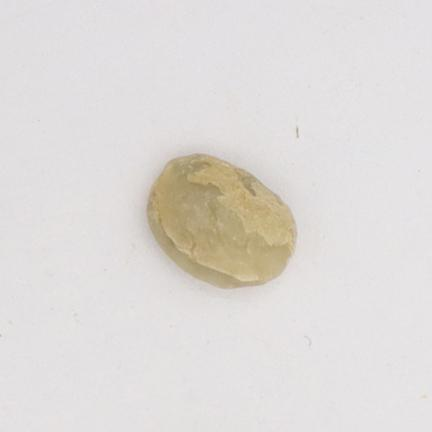immature: (148, 154, 295, 285)
